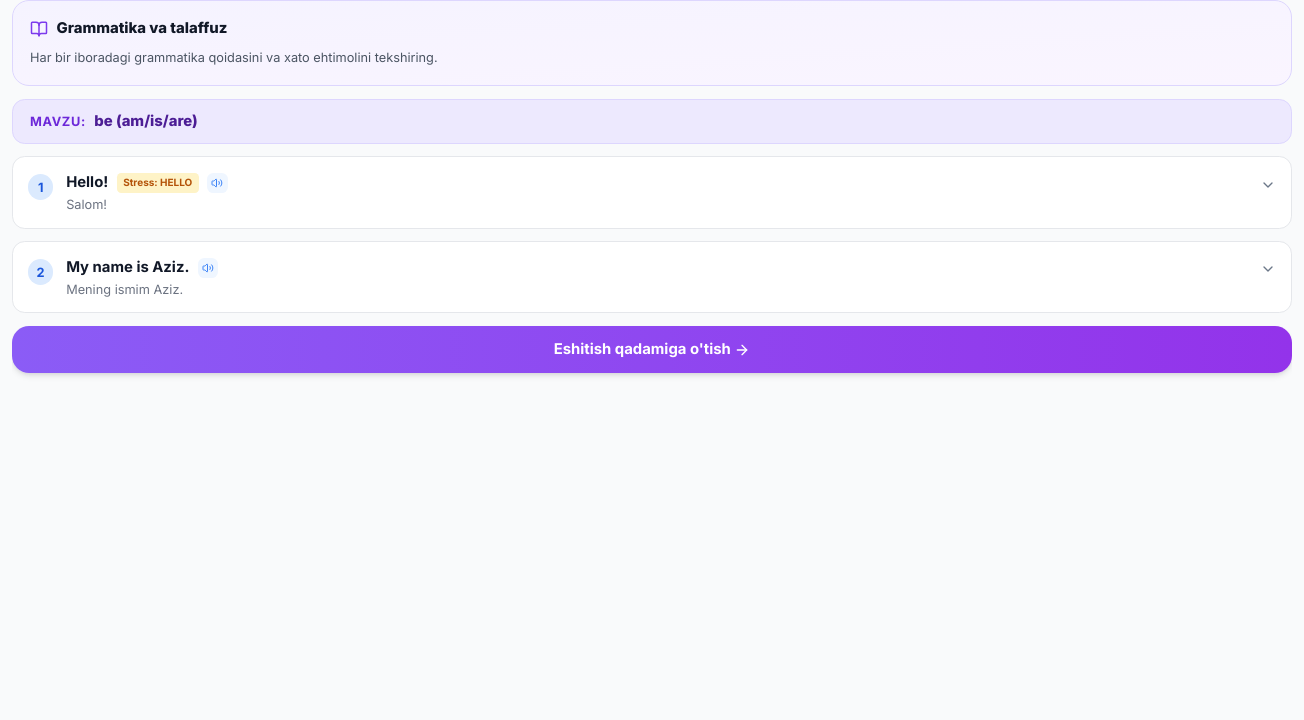
Test: GrammarStep › expands grammar details on click
// Click the button element that contains the chunk text
Click the button "1 Hello! Stress: HELLO Salom!": (87, 182) top-left (13, 158), bottom-right (1291, 228)
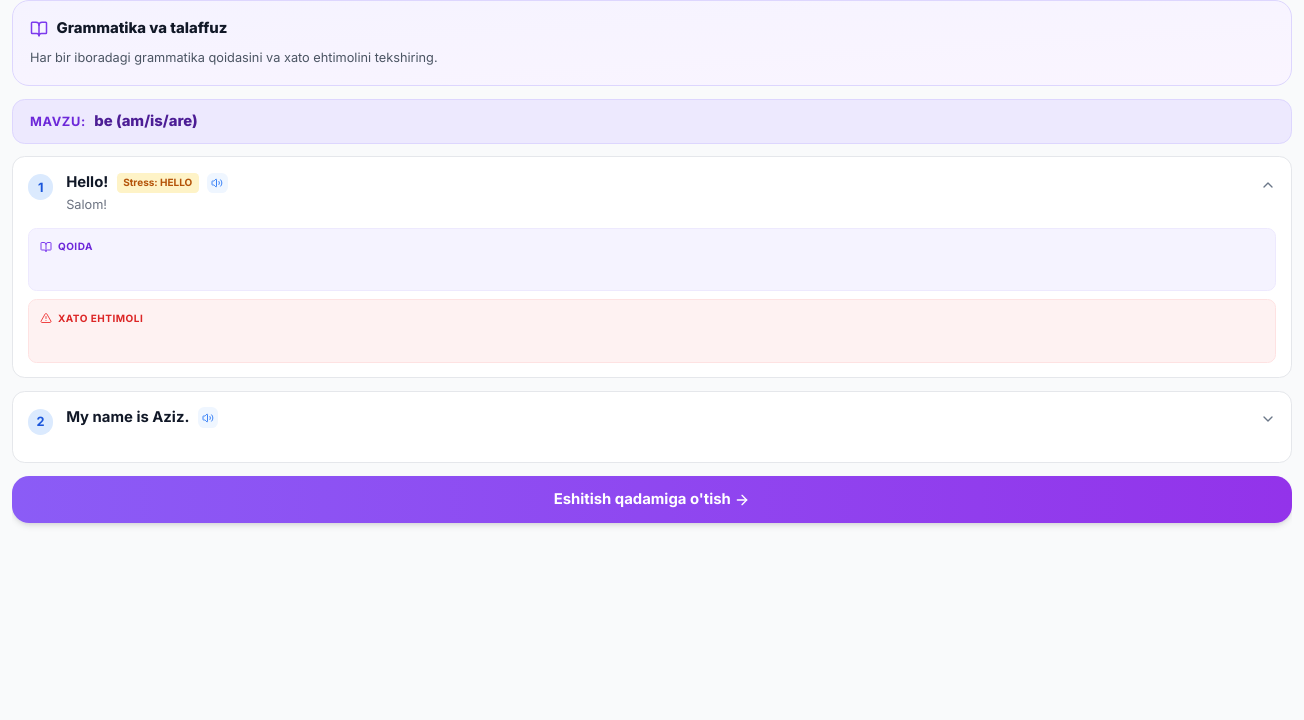
Now the text "Xato ehtimoli" is shown, box top-left (58, 311), bottom-right (143, 326)
